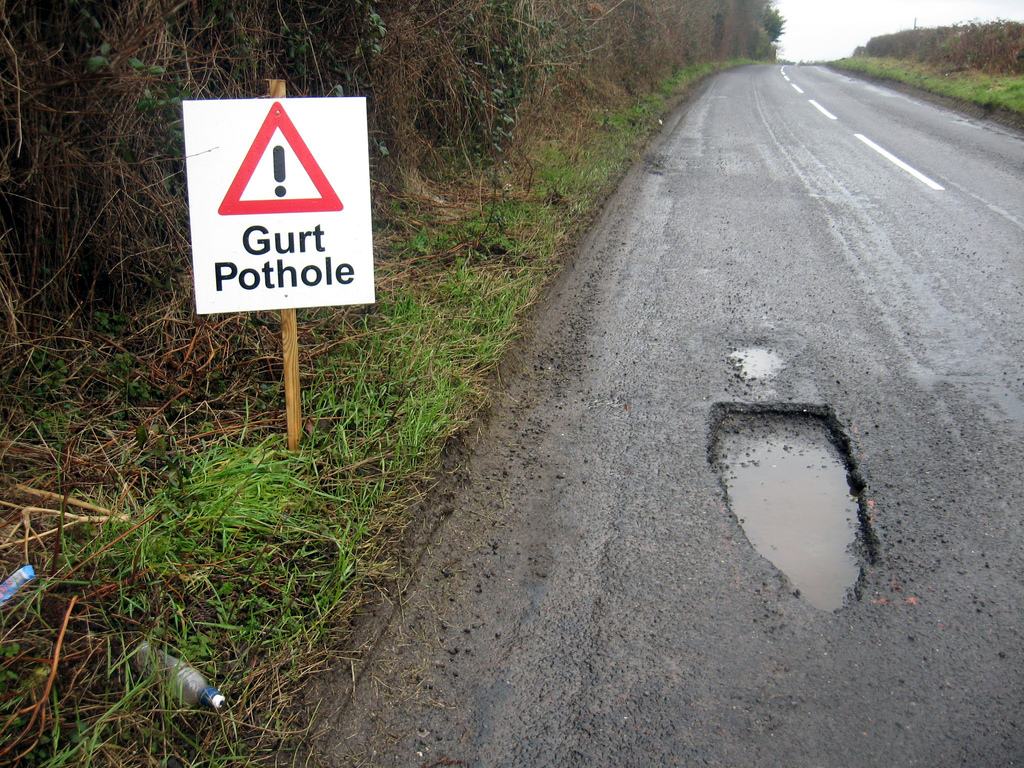danger: (209, 99, 348, 217)
